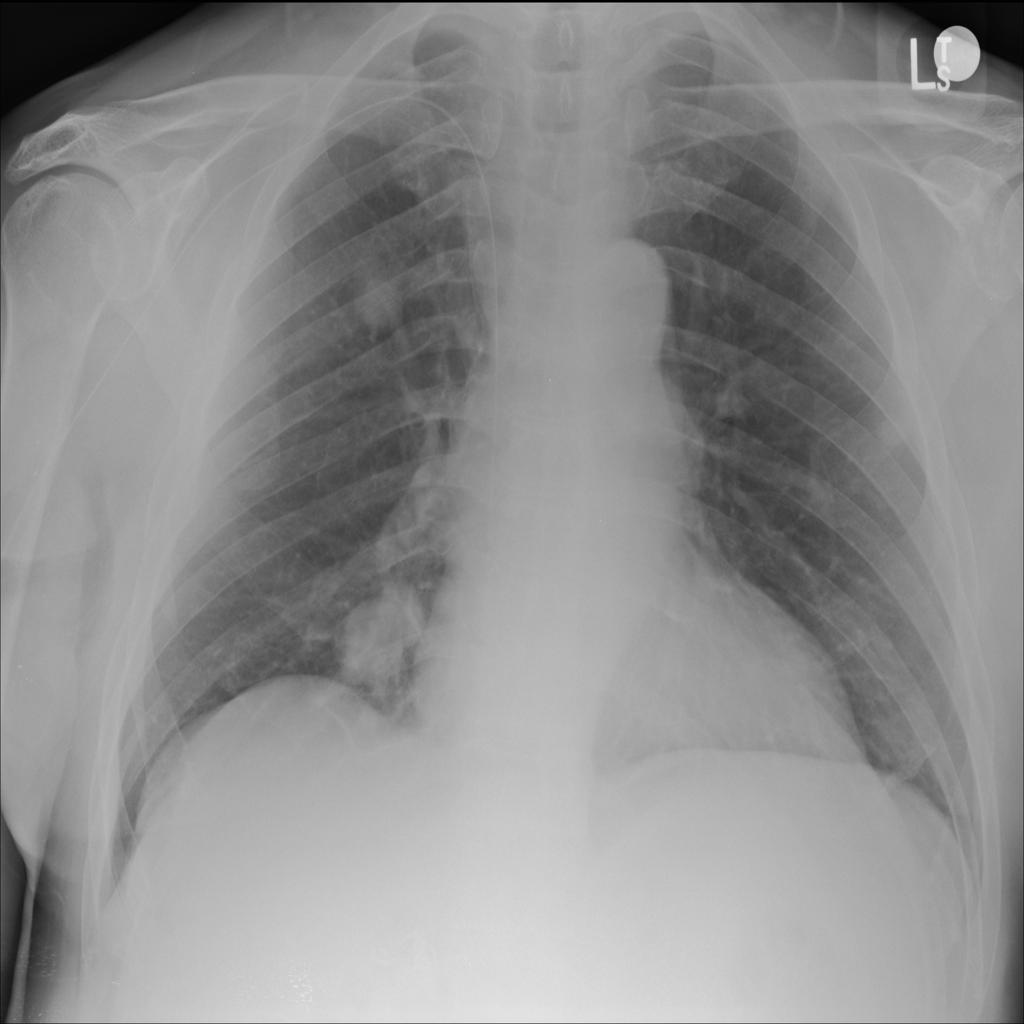nodule: (323, 569, 433, 703), (332, 236, 425, 356), (869, 402, 921, 455)
